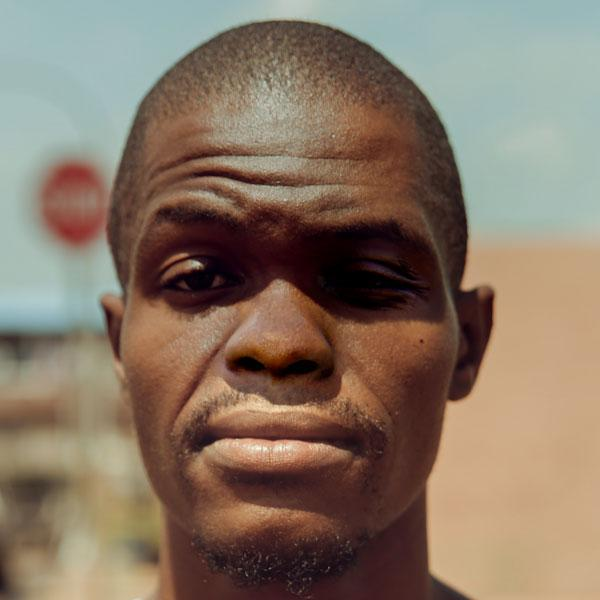Eyes: (308, 247, 418, 319), (144, 242, 245, 311)
